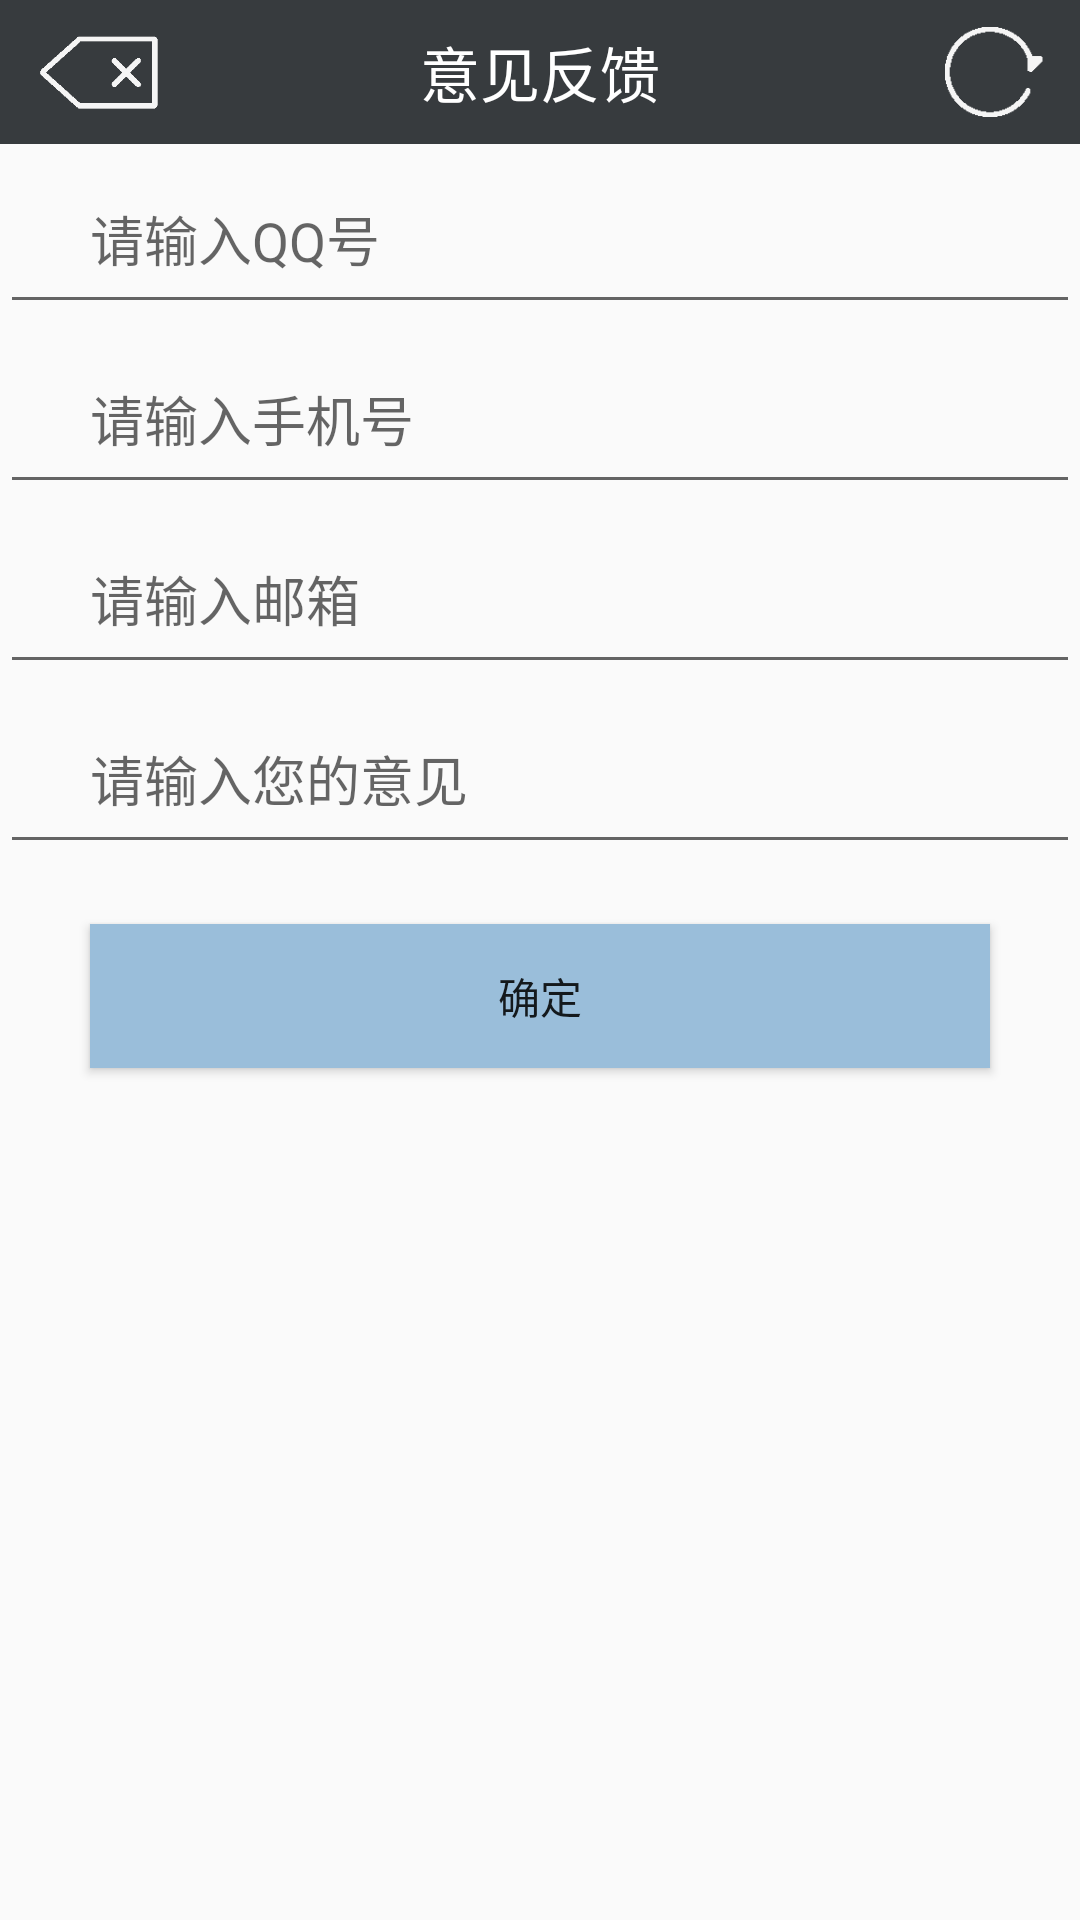

Icons on this 1080w x 1920h Android screen, each with the point to tap as (x=x, y=y):
shuaxin: (x=994, y=72)
